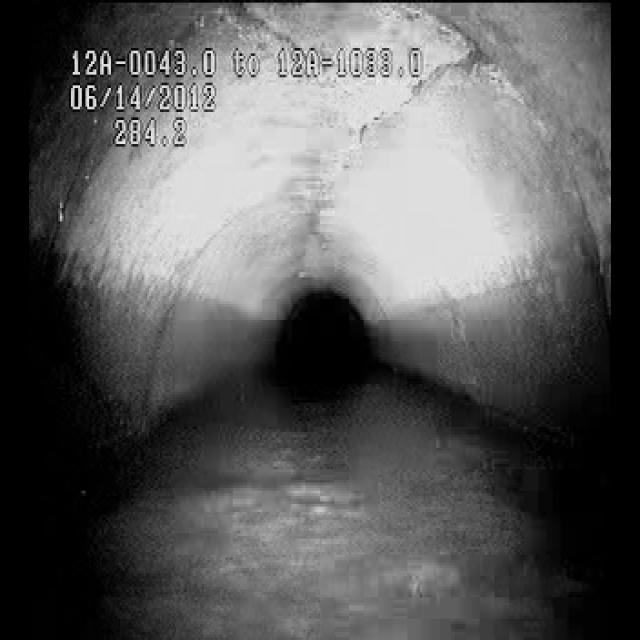Fracture: (355, 42, 475, 184)
